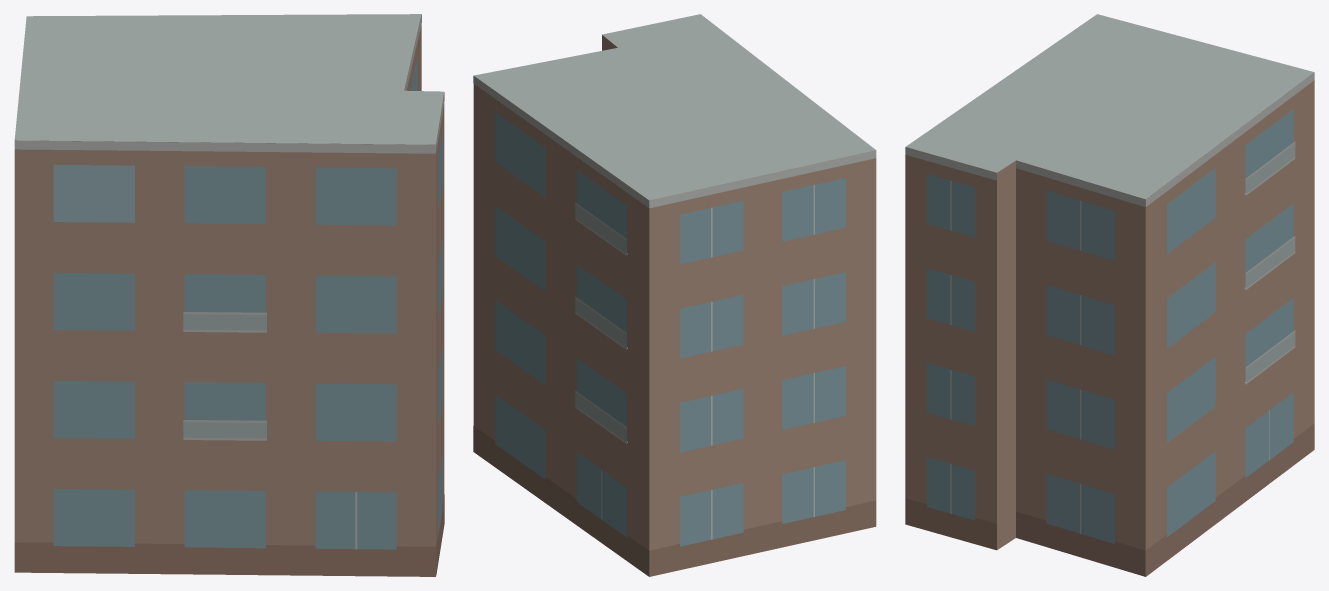
The model's file is survey-upis-32723039.glb.
3 renders of one model, left to right at view 1: azimuth 30°, elevation 25°; view 2: azimuth 150°, elevation 25°; view 3: azimuth 270°, elevation 25°, orthographic. The views are drawn at different scales.
Visible parts, largest first — view 1: survey-upis-32723039.tmp; view 2: survey-upis-32723039.tmp; view 3: survey-upis-32723039.tmp.
Boxes of the visible parts, x1,y1,x2,y2 form: survey-upis-32723039.tmp: (14, 14, 444, 576); survey-upis-32723039.tmp: (473, 14, 876, 576); survey-upis-32723039.tmp: (905, 14, 1314, 576).
Bounding box in the file's own units: 12.33 × 11.7 × 11.5.
